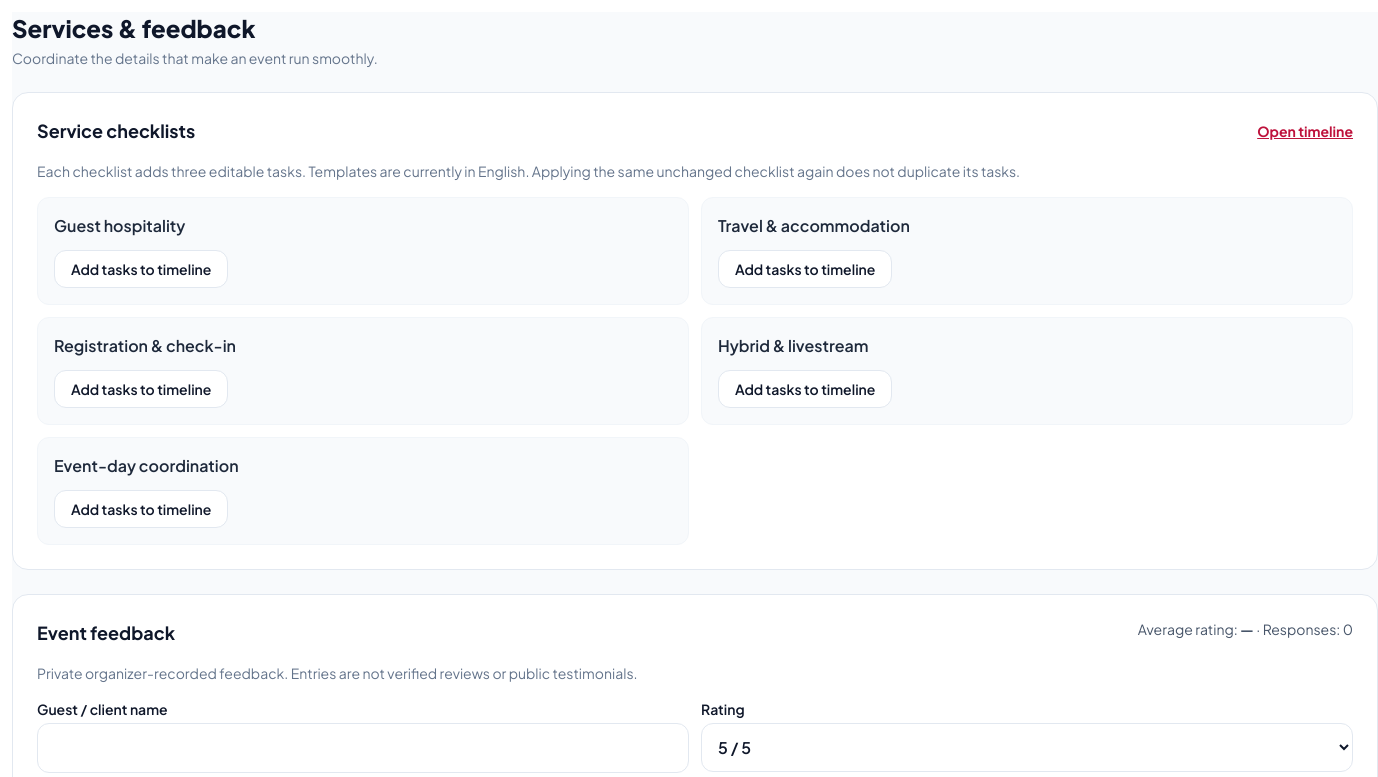
it: adds a service checklist and explains repeated application
The width and height of the screenshot is (1378, 777).
Click the button with aria-label "Add tasks to timeline: Travel & accommodation": (805, 269) [718,250,892,288]
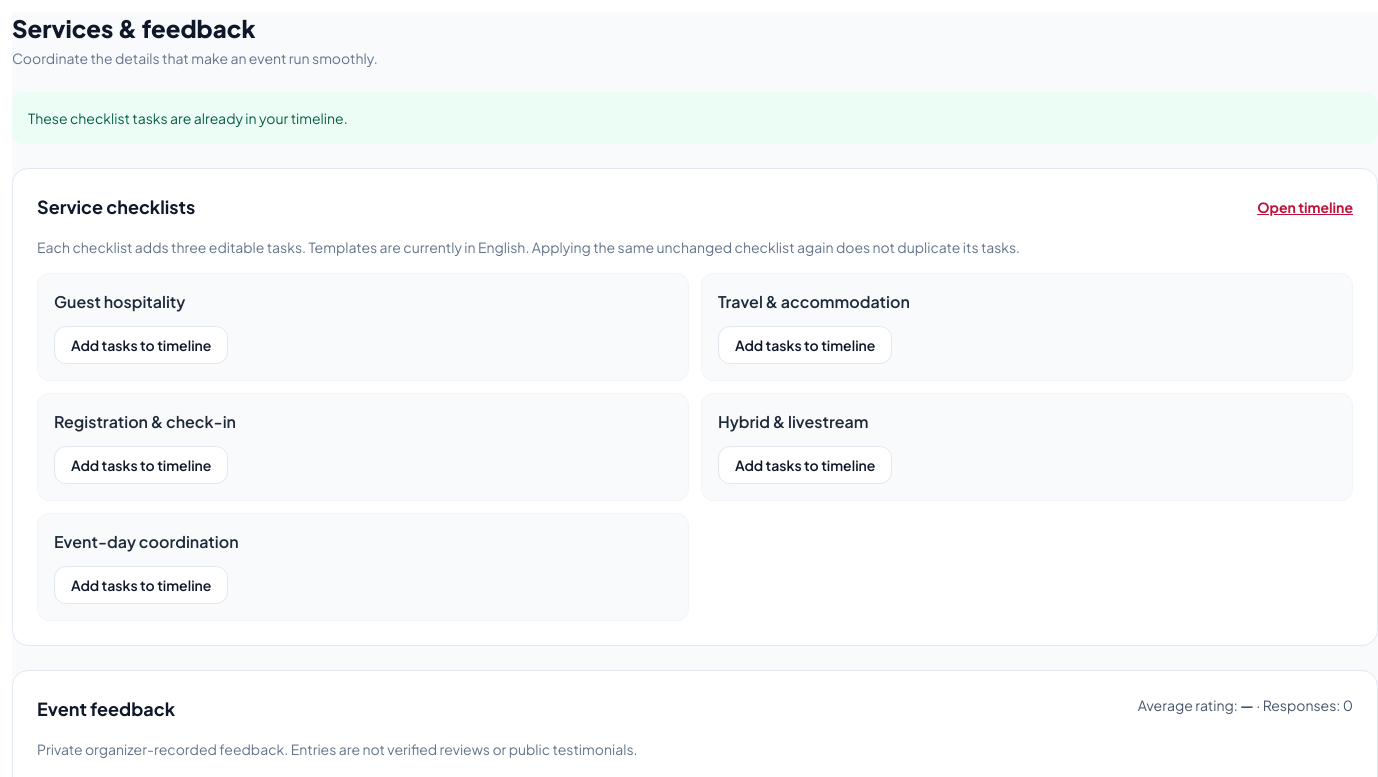
Result: the text "These checklist tasks are already in your timeline." is shown at [12,92,1377,144]
